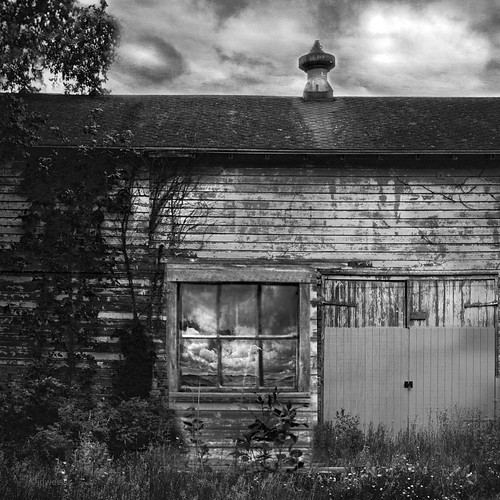building: (8, 95, 494, 454)
sky: (102, 1, 500, 90)
window: (169, 277, 298, 396)
